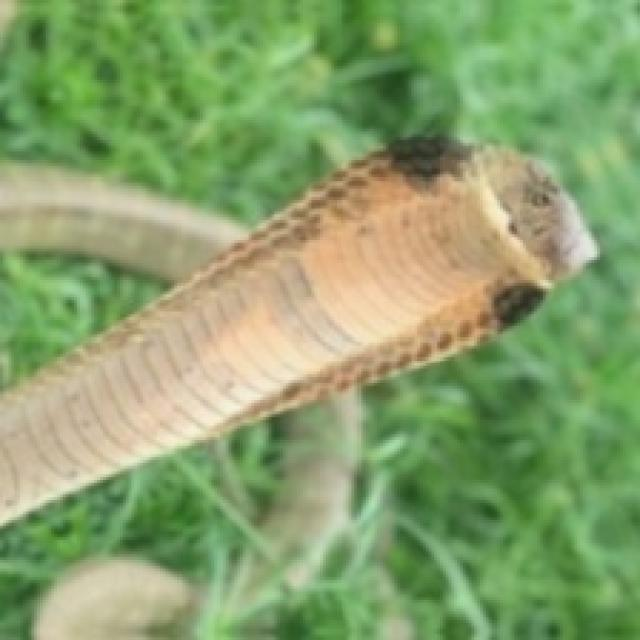king cobra: (0, 140, 594, 520), (0, 169, 197, 274), (34, 560, 191, 637)
